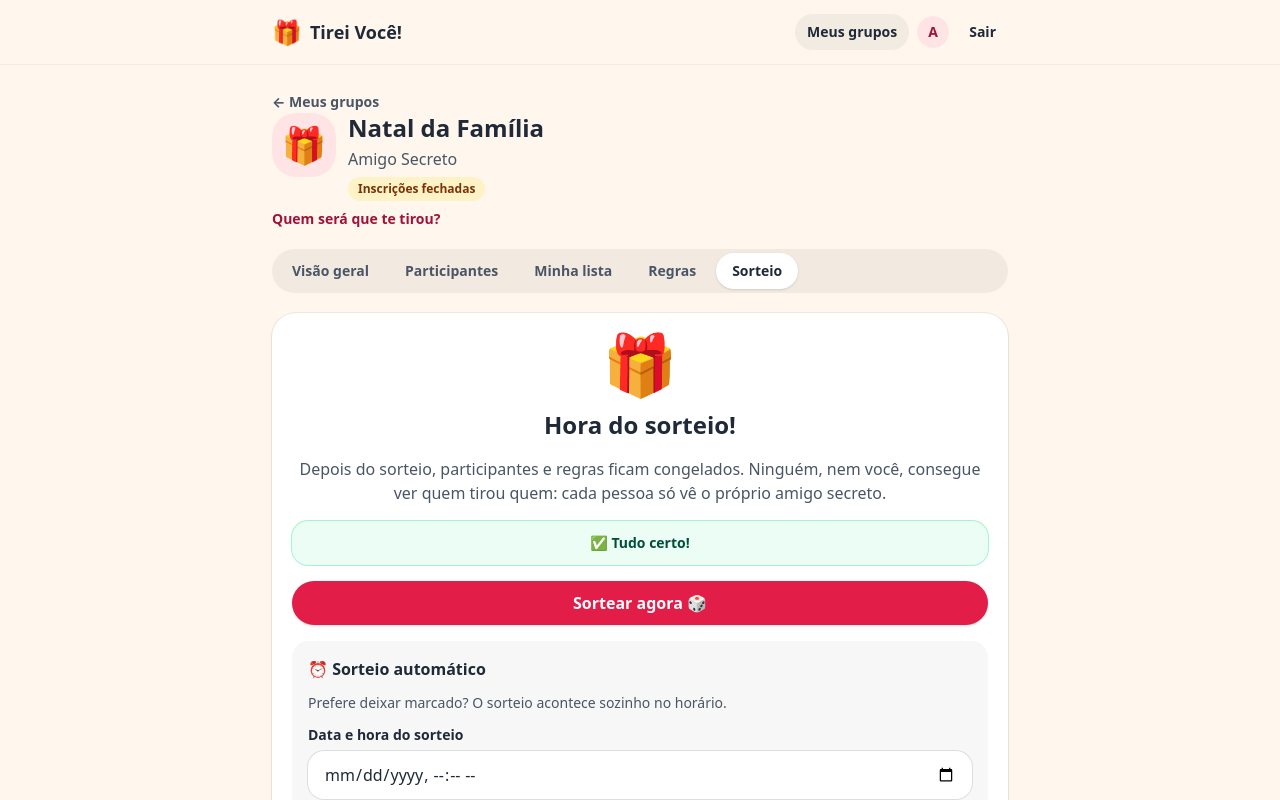
Scenario: sorteio: organizador confirma e envia Idempotency-Key
Click the button "Sortear agora 🎲".
click(640, 603)  # box [292,581,988,625]
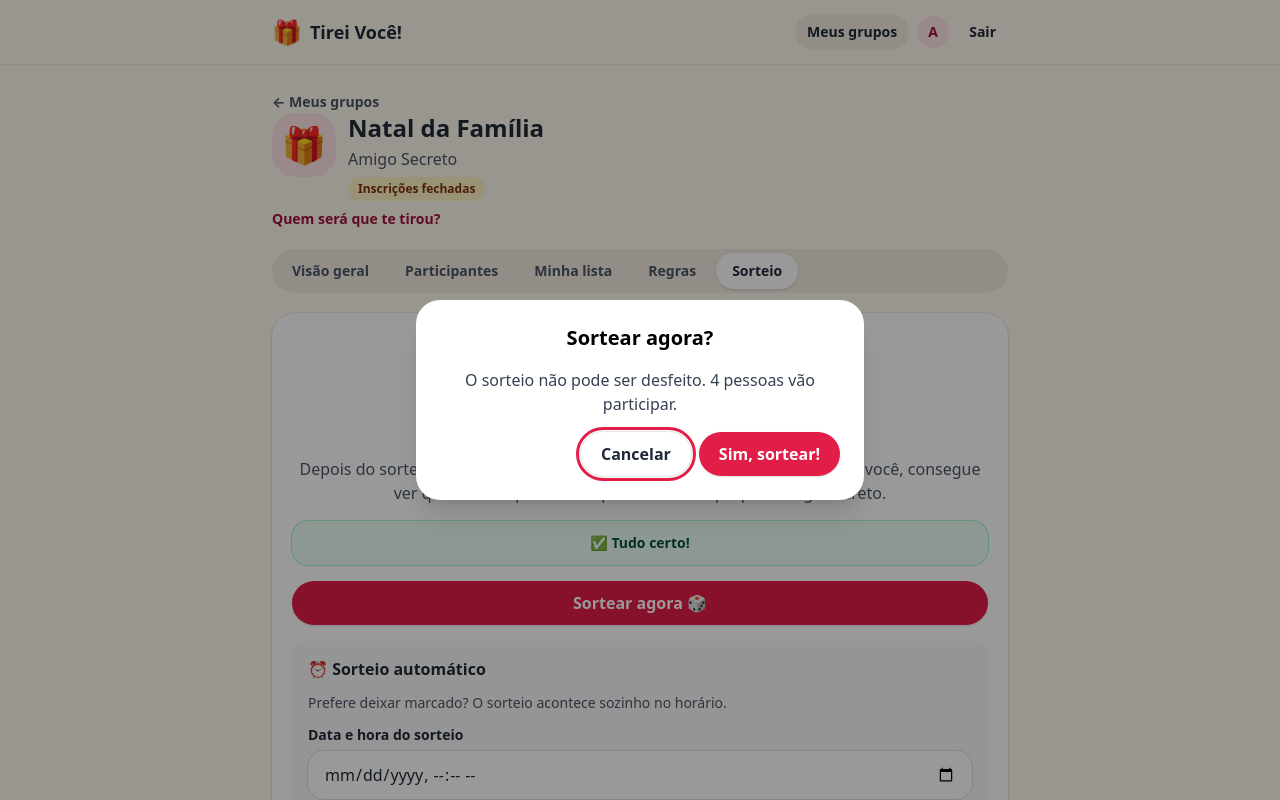
Click the button "Sim, sortear!".
click(769, 454)  # box [699,432,840,476]
(page scrolled)
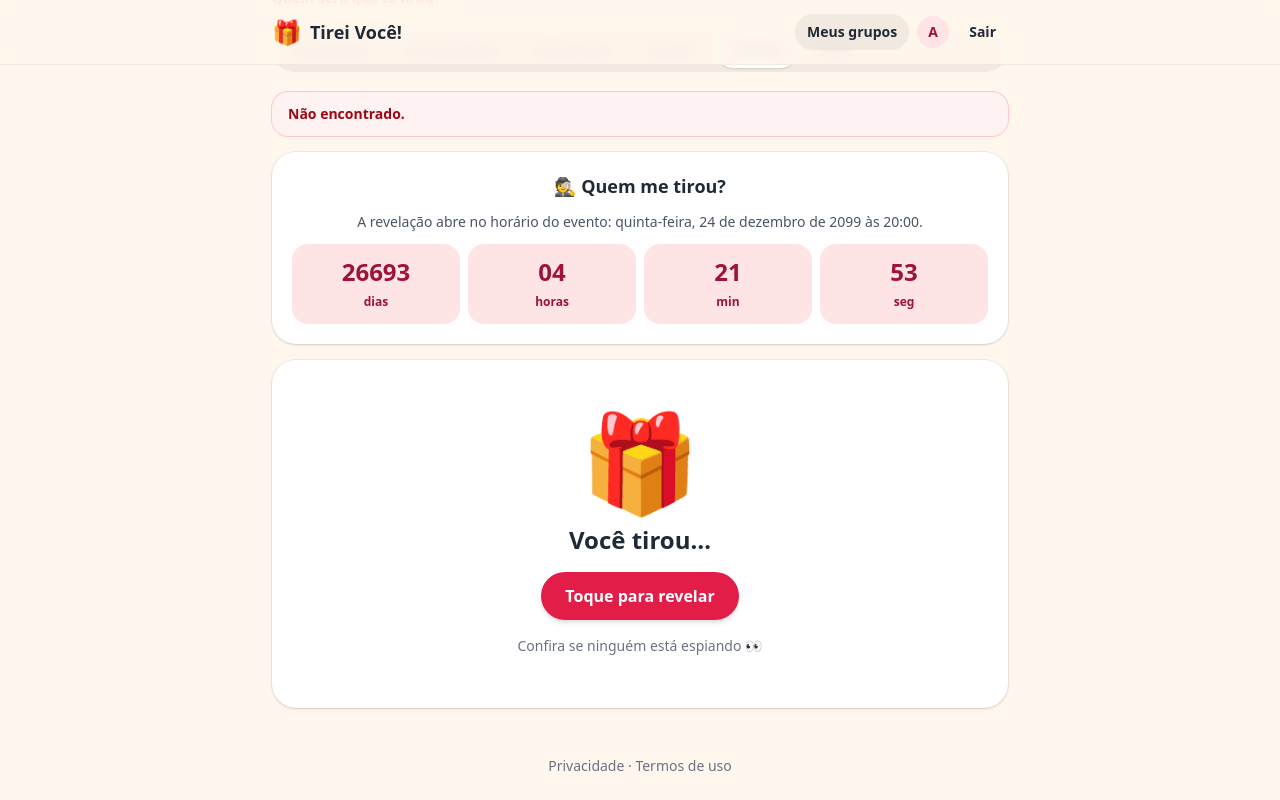
Result: the button "Toque para revelar" is shown at [292,380,988,688]
